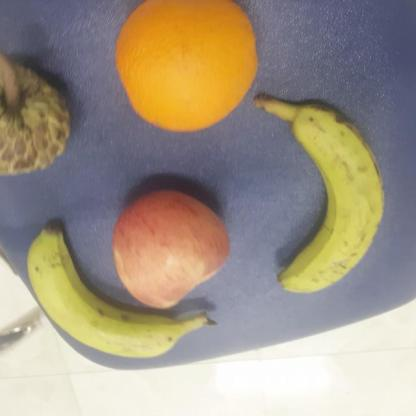annona: (0, 57, 72, 178)
apple: (108, 189, 236, 313)
banana: (280, 94, 388, 301), (26, 221, 174, 364)
orange: (117, 0, 257, 134)
